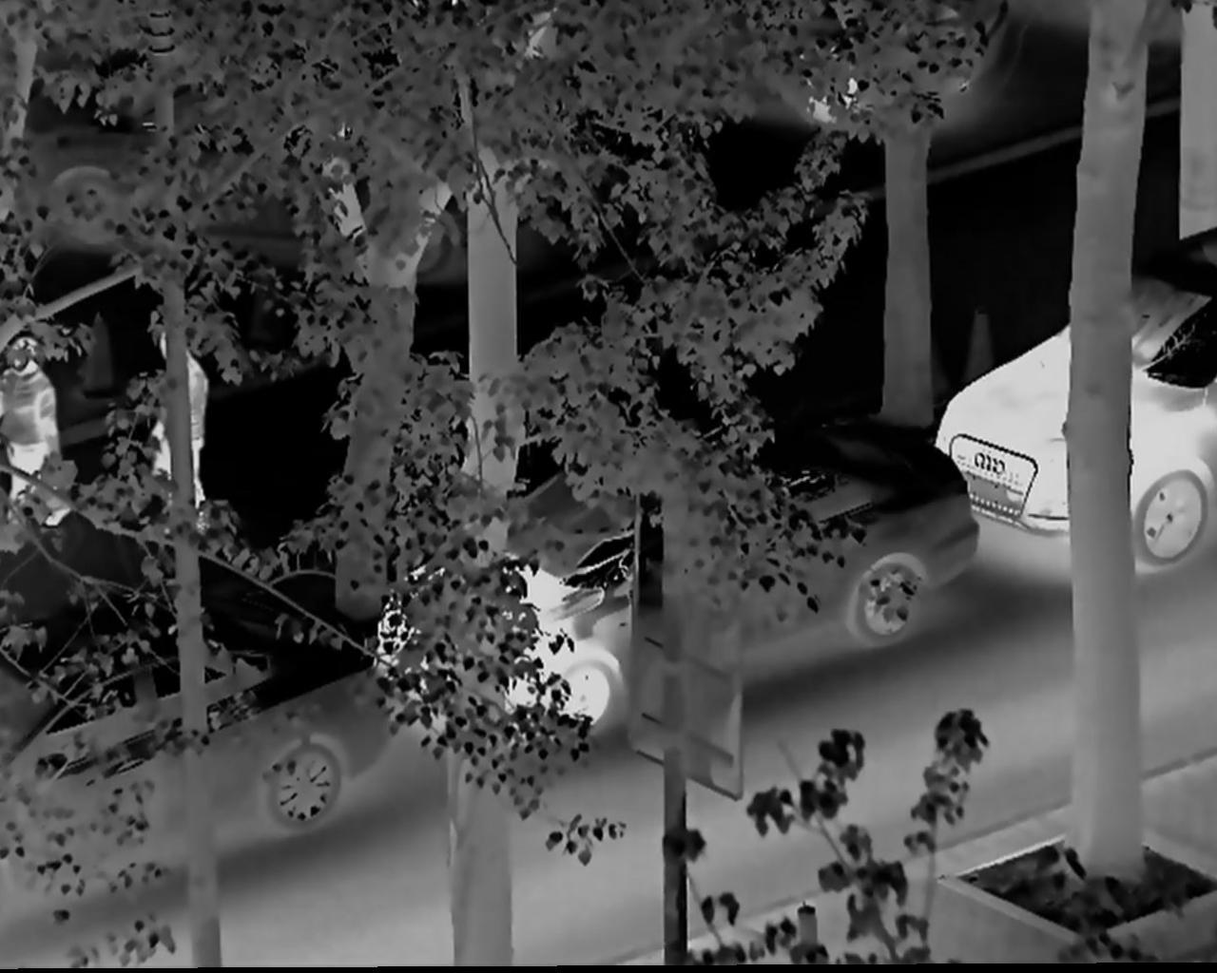person: (4, 334, 74, 544), (146, 335, 210, 539)
